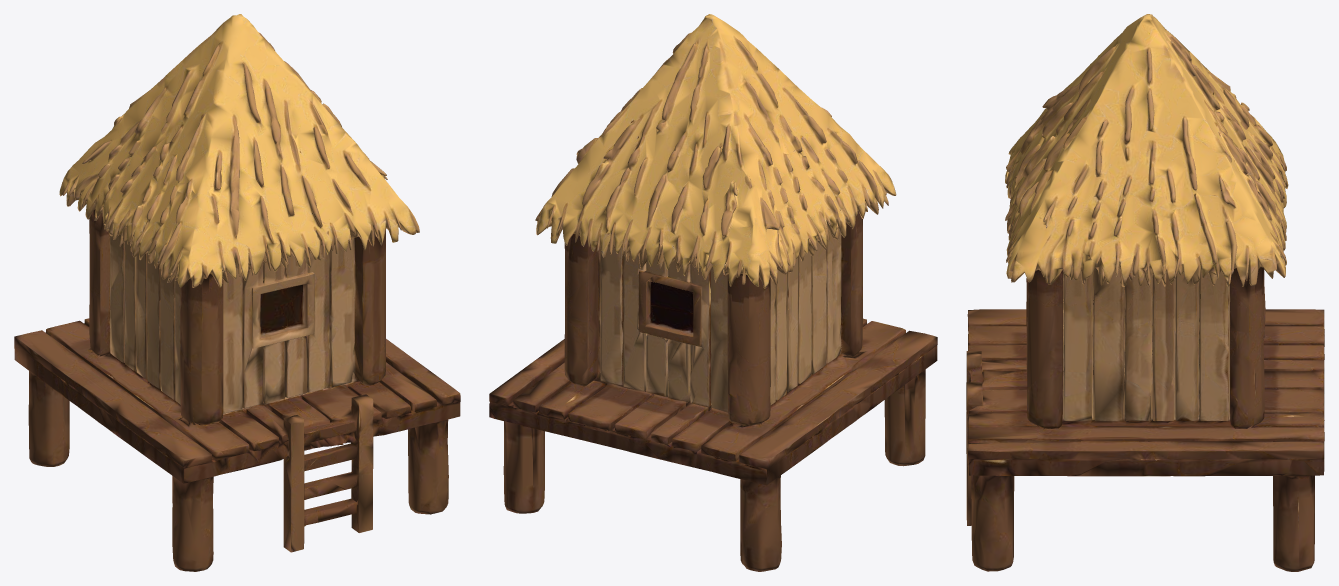
The model's file is fisherman_hut_optimized.glb.
3 views of the same model, side by side, from view 1: azimuth 30°, elevation 25°; view 2: azimuth 150°, elevation 25°; view 3: azimuth 270°, elevation 25° (orthographic). The views are drawn at different scales.
Bounding box in the file's own units: 1.19 × 1.9 × 1.27.
Materials: 1 (1 with a texture image).
